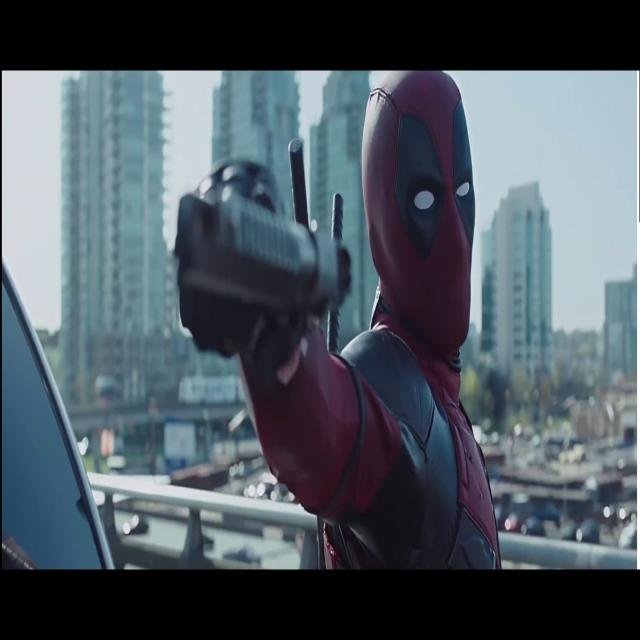weapons: (151, 158, 364, 370)
